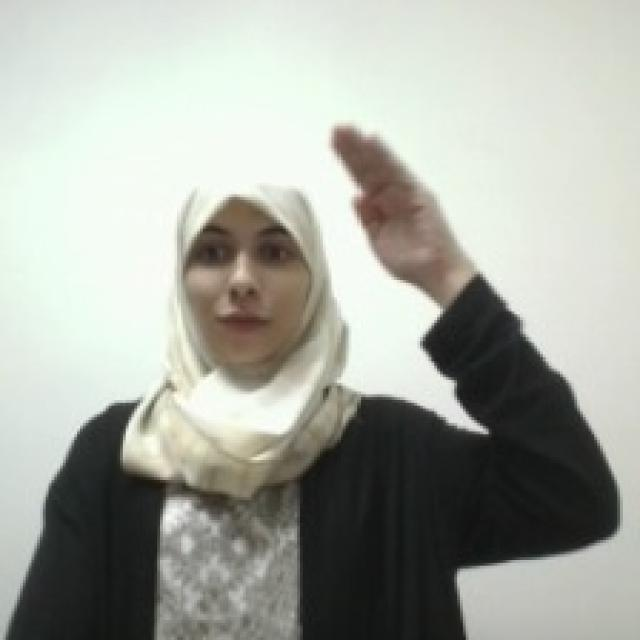Thanks: (323, 116, 450, 282)
